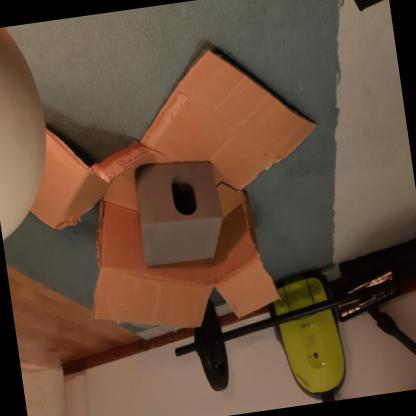CornerCasting: (124, 152, 232, 272)
